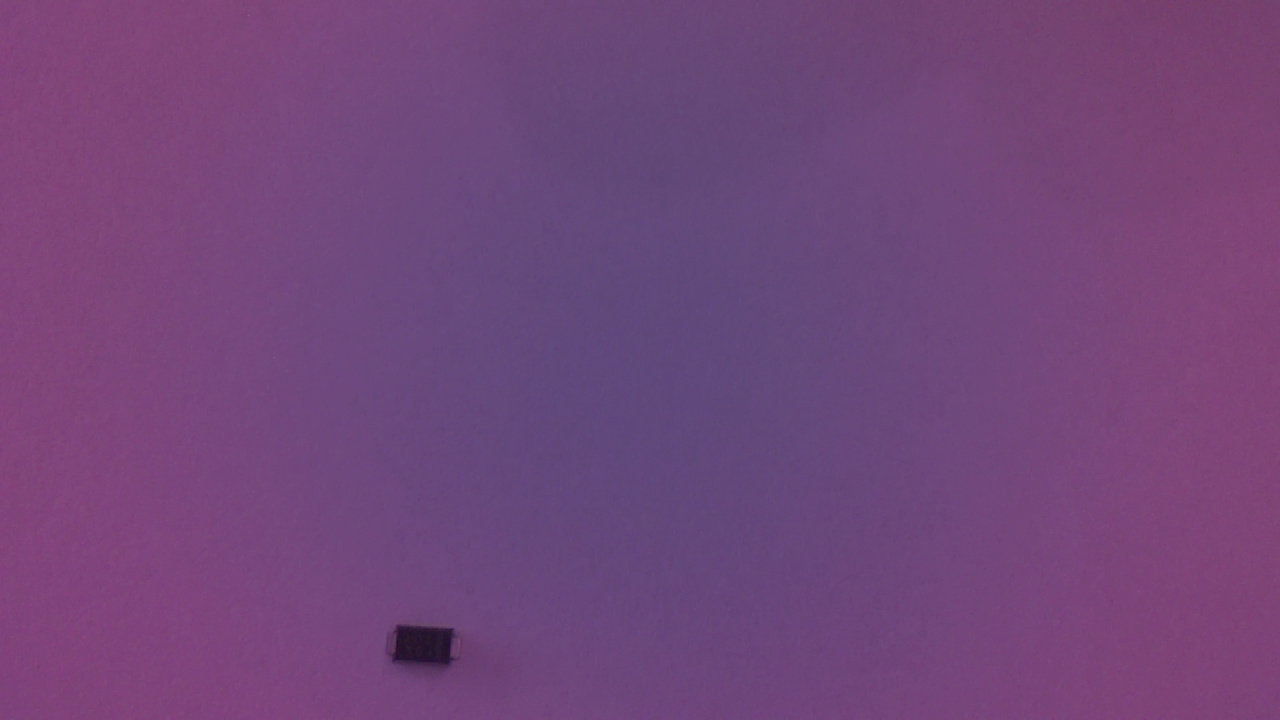Diode: (385, 623, 474, 676)
